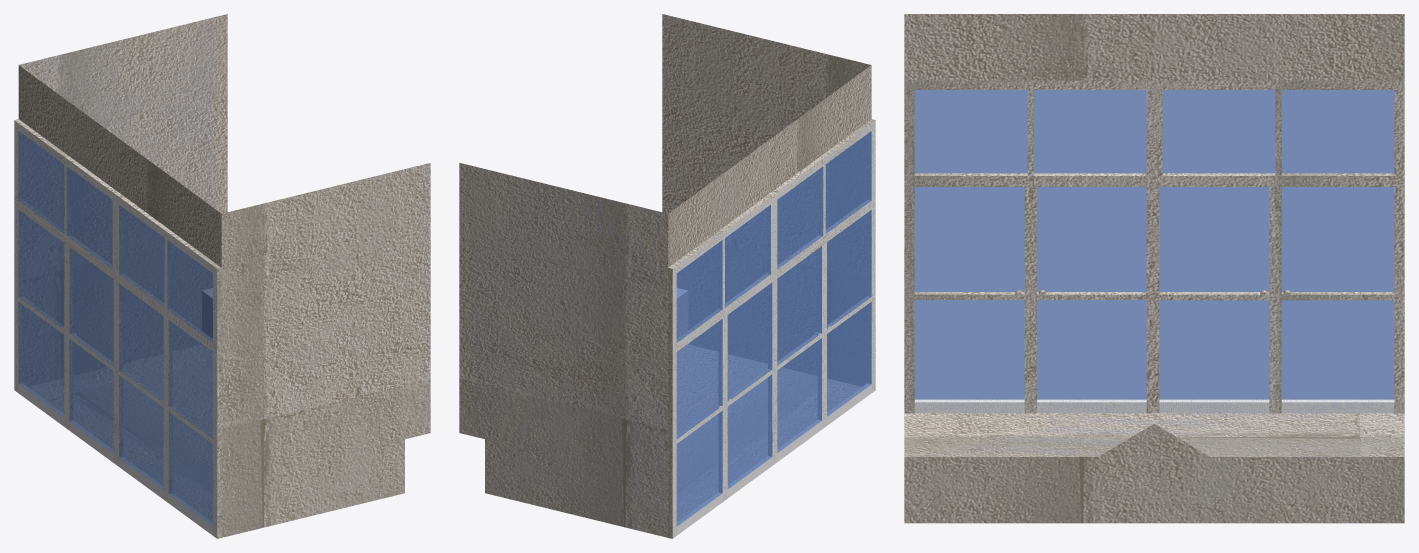
Rendered from COM030.obj.
The picture shows the model from 3 angles, left to right: view 1: azimuth 30°, elevation 25°; view 2: azimuth 150°, elevation 25°; view 3: azimuth 270°, elevation 25°; orthographic projection. The views are drawn at different scales.
Visible parts, largest first — view 1: Mesh7 COM030 Model, Mesh1 p16_1 COM030 Model; view 2: Mesh7 COM030 Model, Mesh1 p16_1 COM030 Model; view 3: Mesh1 p16_1 COM030 Model, Mesh7 COM030 Model.
Part boxes in pixels (bbox=[...]): Mesh7 COM030 Model: bbox=[18, 14, 430, 537]; Mesh1 p16_1 COM030 Model: bbox=[14, 119, 221, 538]; Mesh7 COM030 Model: bbox=[459, 14, 871, 537]; Mesh1 p16_1 COM030 Model: bbox=[668, 119, 875, 538]; Mesh1 p16_1 COM030 Model: bbox=[904, 80, 1404, 413]; Mesh7 COM030 Model: bbox=[904, 14, 1404, 523].
Bounding box in the file's own units: 2.48 × 3.6 × 4.09.
5 materials, 1 textured.
